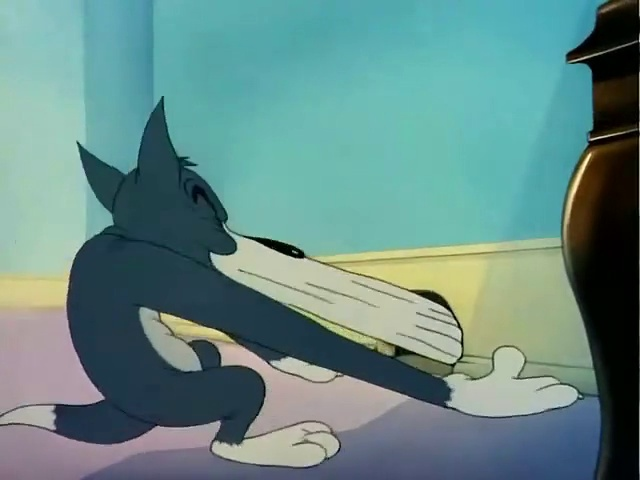tom: (3, 106, 581, 475)
